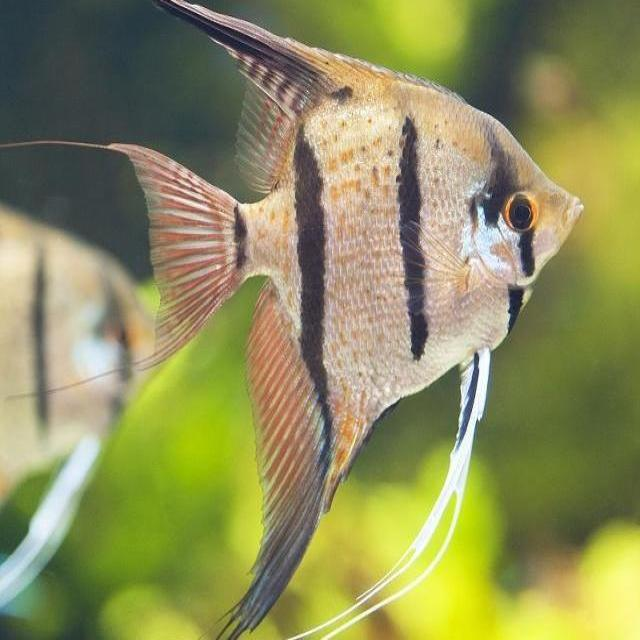AngelFish: (132, 0, 584, 637)
